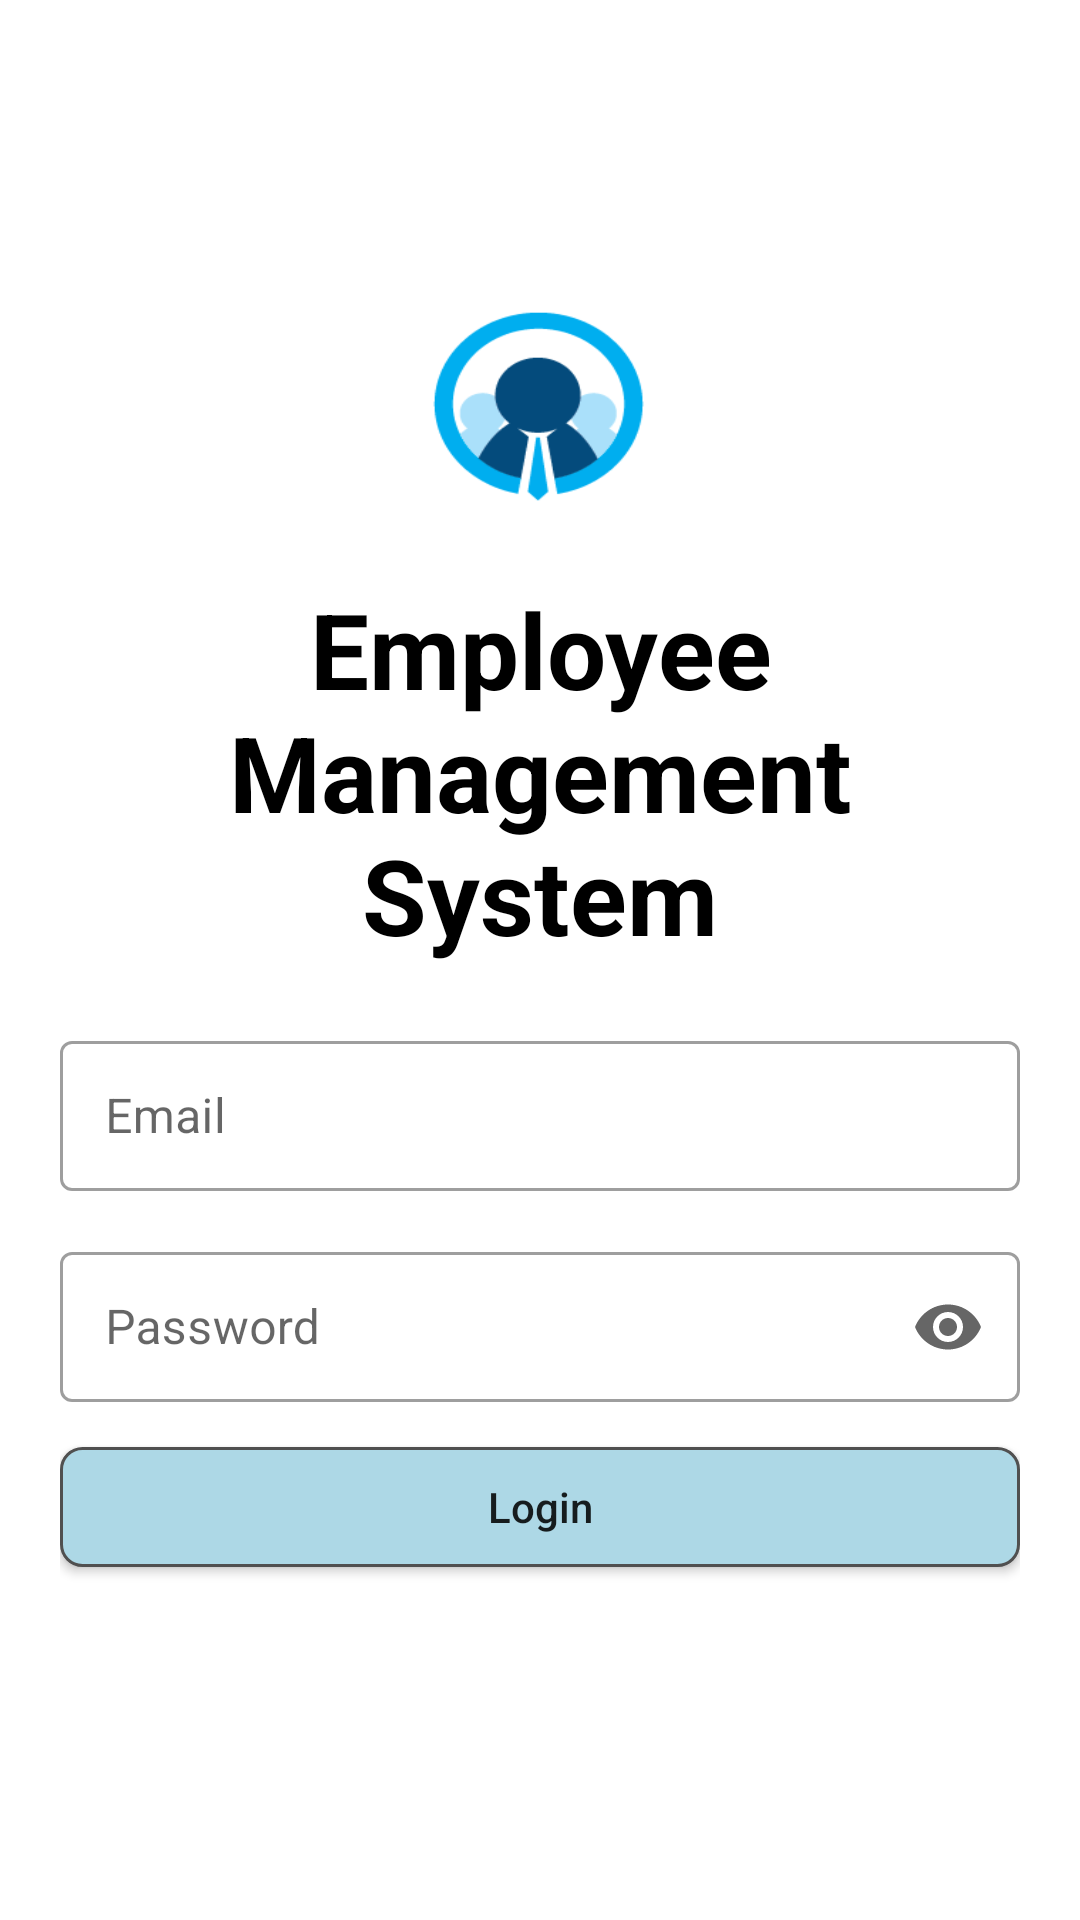

Icons on this 1080px x 1920px Android screen, each with the point to tap as (x=x, y=y):
admin: (x=538, y=406)
